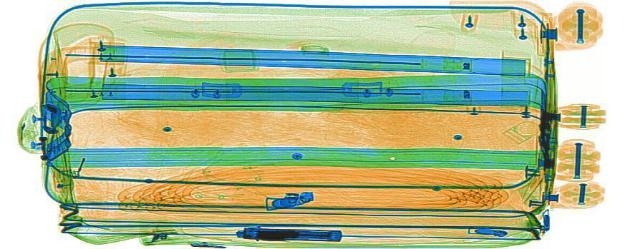Gun: (234, 225, 344, 240)
